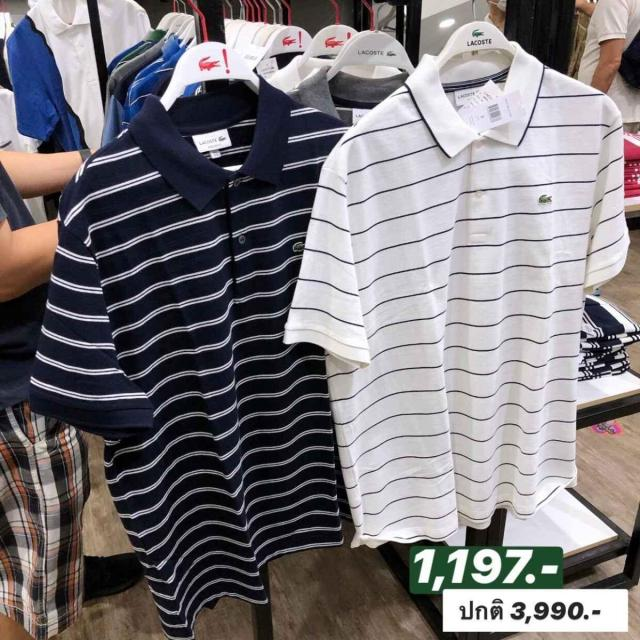Tshirt: (304, 61, 625, 532), (40, 99, 333, 593)
